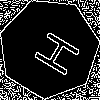H: (24, 23, 82, 79)
